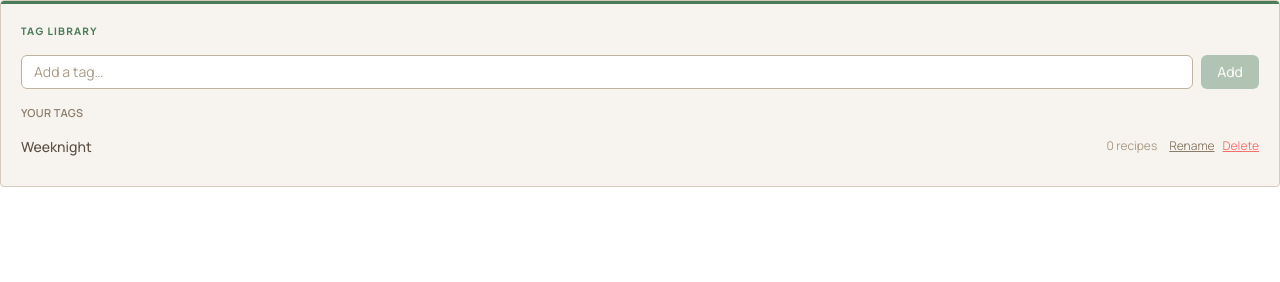
Test: Spec-19 T9 - deleting a custom tag removes it from the list › removes tag after confirmed delete
Step 1. Click the button "Delete" → (1241, 146), box [1222,138,1259,154]
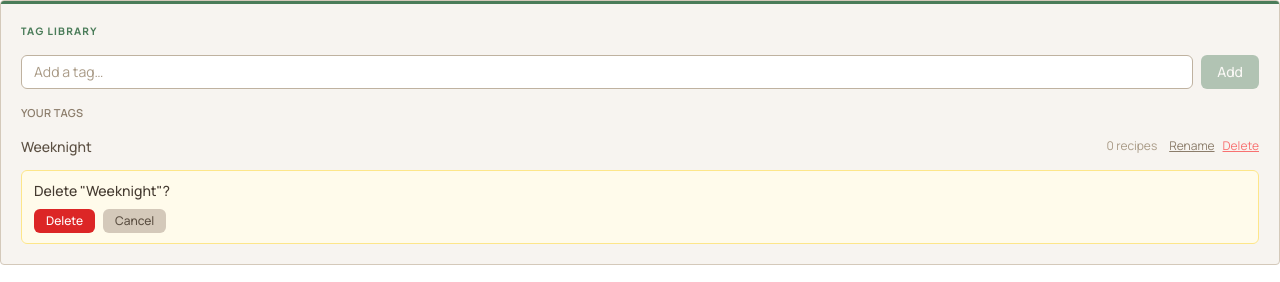
Click the confirm Delete button (last one in DOM)
Step 2. Click the button "Delete" below "Delete \"" → (65, 220), box [34,208,95,232]
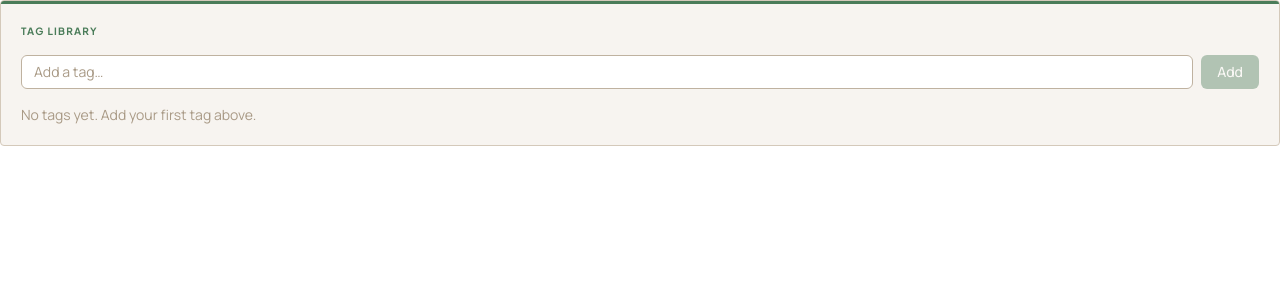
Expected: the text "Weeknight" is gone
